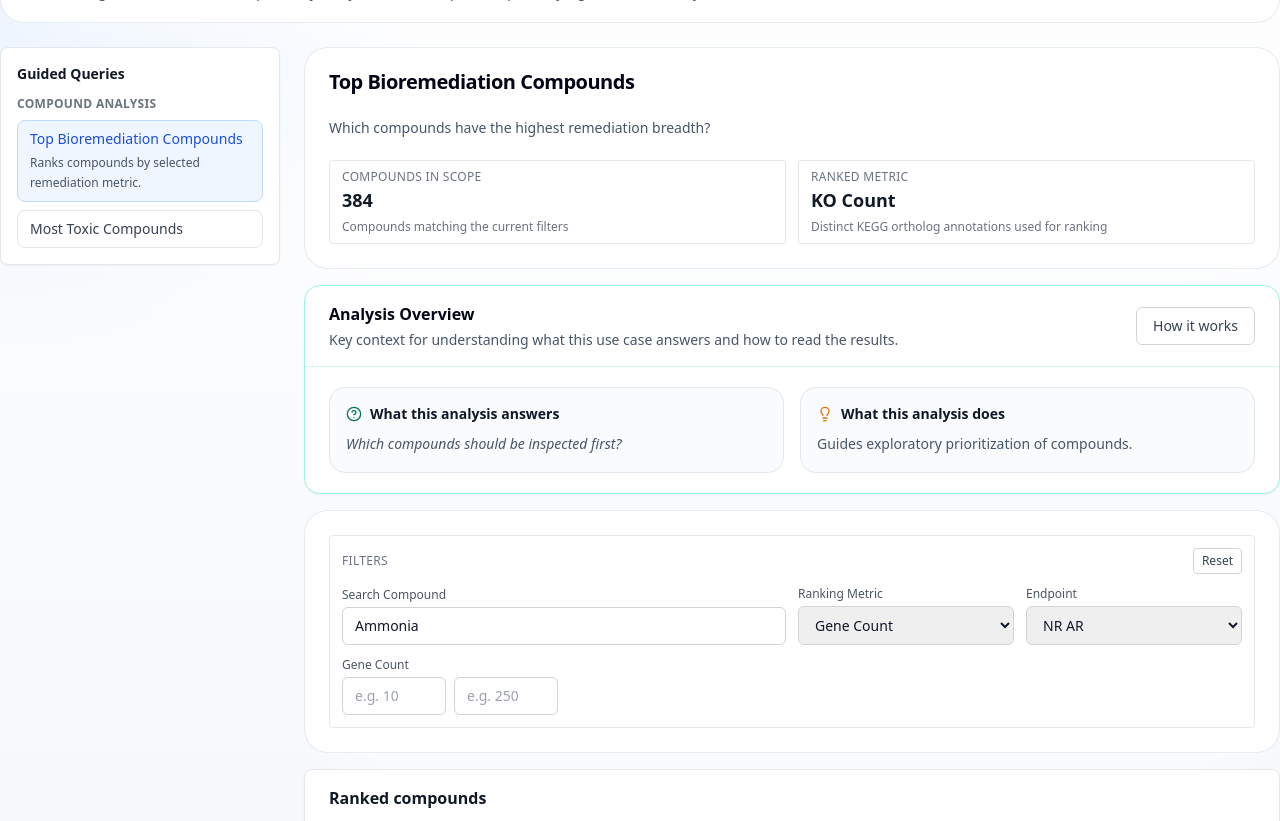
Test: GuidedAnalysisPage › keeps previous results visible and shows a friendly banner when a 429 happens
Type " sulfate" into the field labelled "Search Compound" at (564, 626), box [342,607,786,645]
(page scrolled)
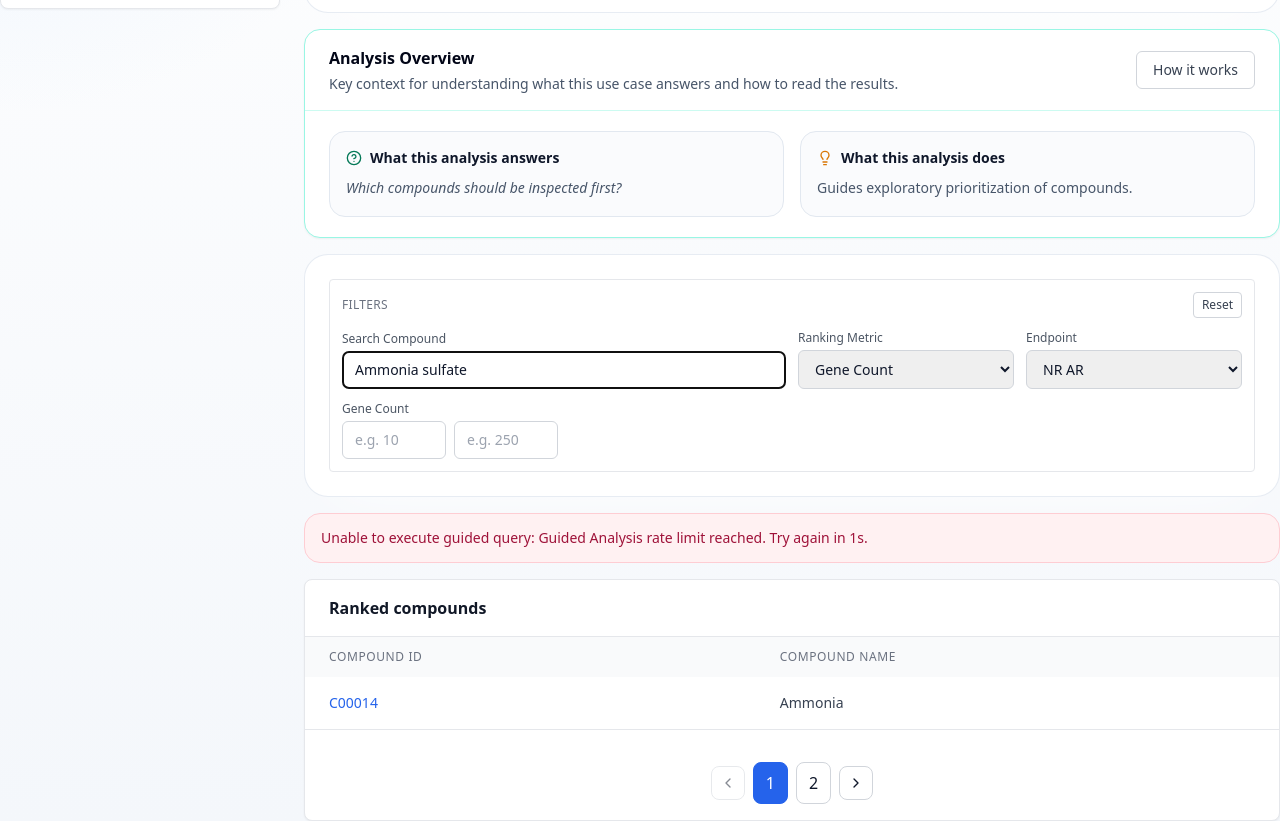
Check: the text "Ammonia" is shown, box [756,677,1279,729]
Check: the text "Unable to execute guided query: Guided Analysis rate limit reached. Try again in 1s." is shown, box [304,513,1279,563]
